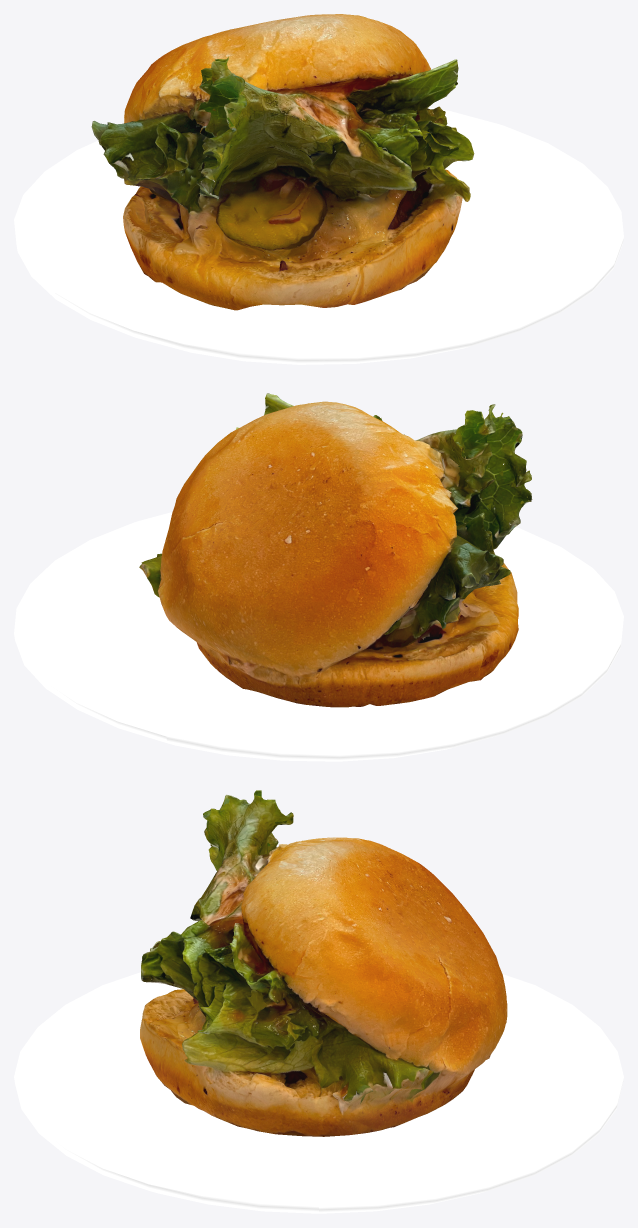
File: BeyondBurger.glb
The picture shows the model from 3 angles, top to bottom: view 1: azimuth 30°, elevation 25°; view 2: azimuth 150°, elevation 25°; view 3: azimuth 270°, elevation 25°; orthographic projection.
Visible parts, largest first — view 1: HamburguesaBeyond, Plate; view 2: HamburguesaBeyond, Plate; view 3: HamburguesaBeyond, Plate.
Boxes of the visible parts, x1,y1,x2,y2 form: HamburguesaBeyond: [91, 14, 474, 310]; Plate: [14, 107, 623, 364]; HamburguesaBeyond: [139, 393, 532, 707]; Plate: [14, 512, 623, 761]; HamburguesaBeyond: [140, 790, 507, 1136]; Plate: [14, 972, 623, 1213].
Bounding box in the file's own units: 79.88 × 36.87 × 79.83.
2 materials, 1 textured.
